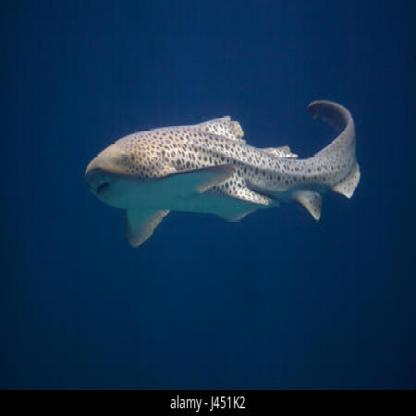zebra_shark: (82, 72, 377, 262)
